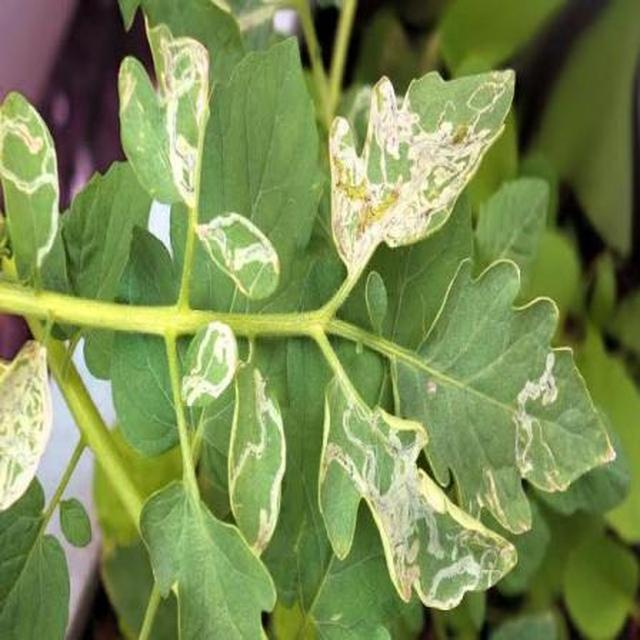Leaf Miner: (37, 130, 640, 640)
